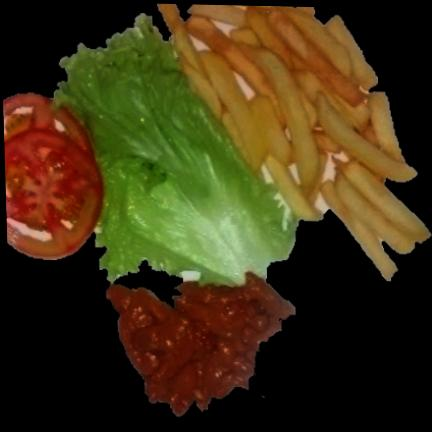beans: (107, 273, 295, 415)
potato: (156, 3, 431, 279)
salad: (55, 15, 297, 285)
tomato: (3, 94, 102, 257)
